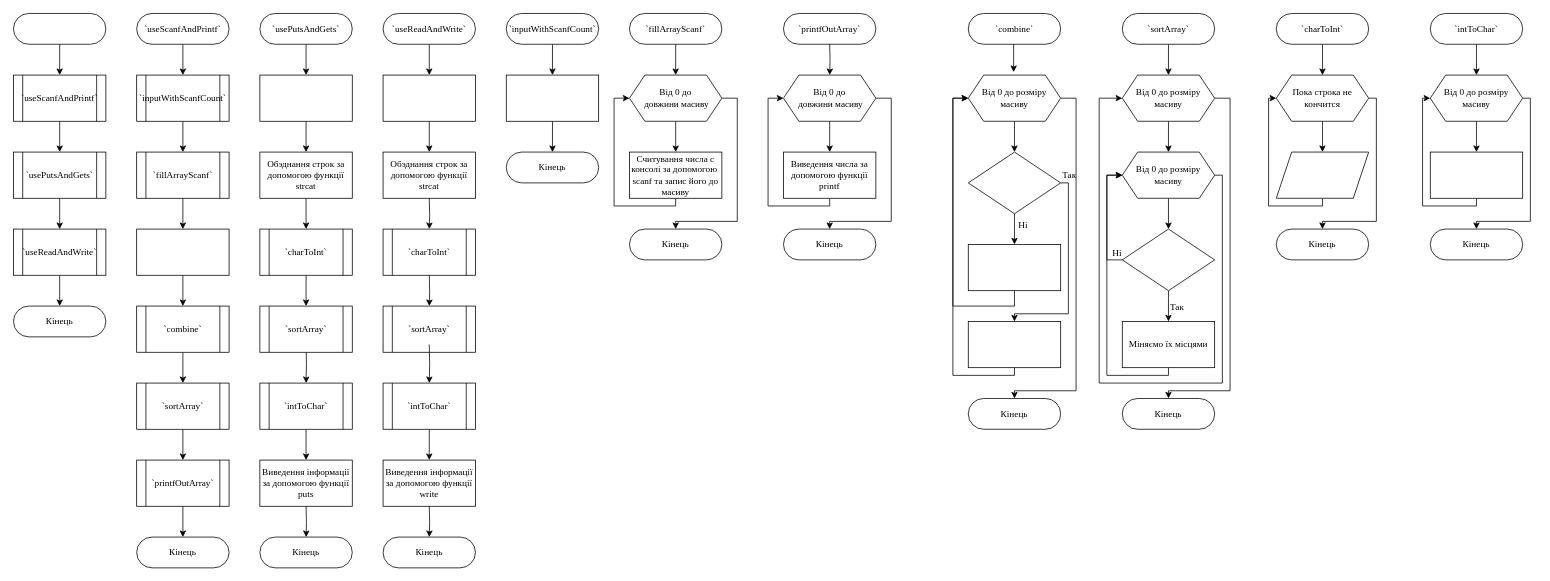
The diagram is 1550 pixels wide and 581 high, and some of its shapes have lost their labels. The centre of each missing label's shape, as x and y in pixels:
"До результату заносяться значення другого масиву" belongs at (1014,267).
"До результату заносяться значення першого масиву" belongs at (1014,344).
"Обчислення розміру результуючого масиву" belongs at (182,251).
"Порядок числа менший за розмір першого масиву?" belongs at (1014,182).
"Початок" belongs at (59,28).
"Почисельний запис масиву чисел в строку" belongs at (1476,174).
"Почисимвольний запис чисел в массив" belongs at (1322,174).
"Считування довжини масиву с консолі за допомогою scanf" belongs at (552,97).
"Считування тексту с консолі за допомогою gets" belongs at (305,97).
"Считування тексту с консолі за допомогою read" belongs at (428,97).
"Число більше наступного?" belongs at (1168,259).
